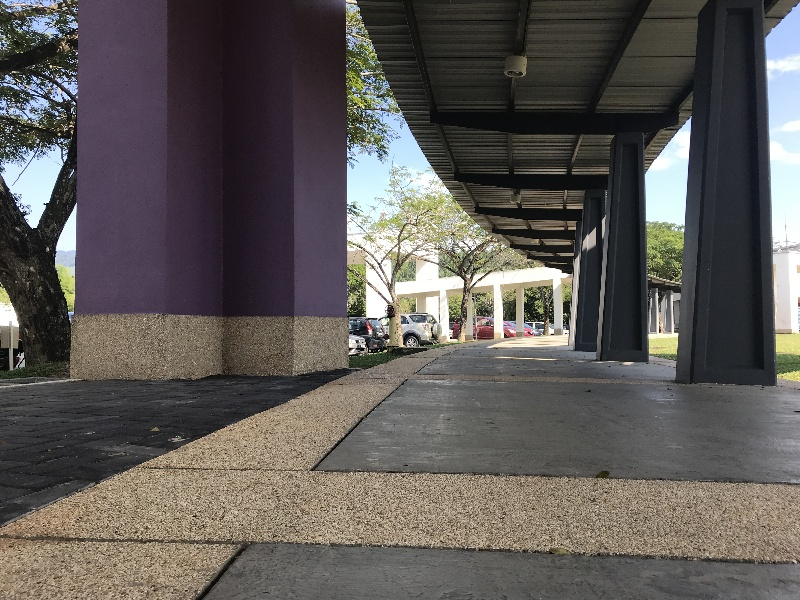pillar: (51, 5, 365, 396), (685, 13, 780, 403), (597, 128, 656, 367), (580, 182, 597, 351)
